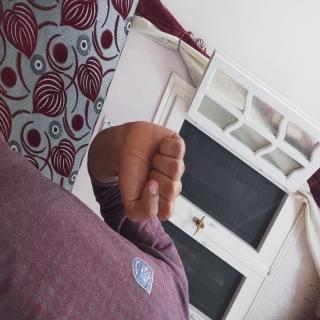SAD: (83, 175, 175, 282)
